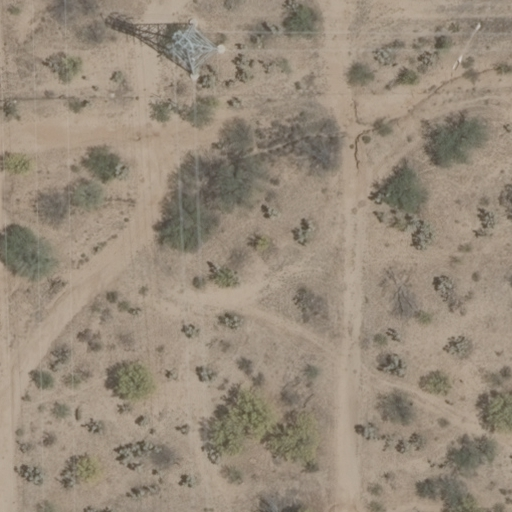TT: (157, 18, 230, 83)
